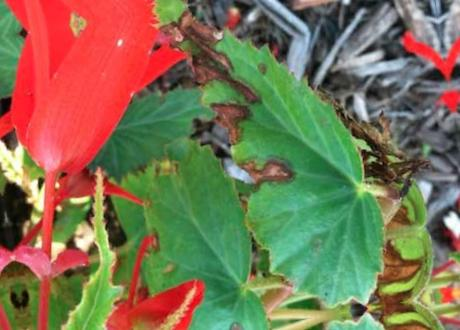Tomato leaf bacterial spot: (173, 0, 405, 318)
